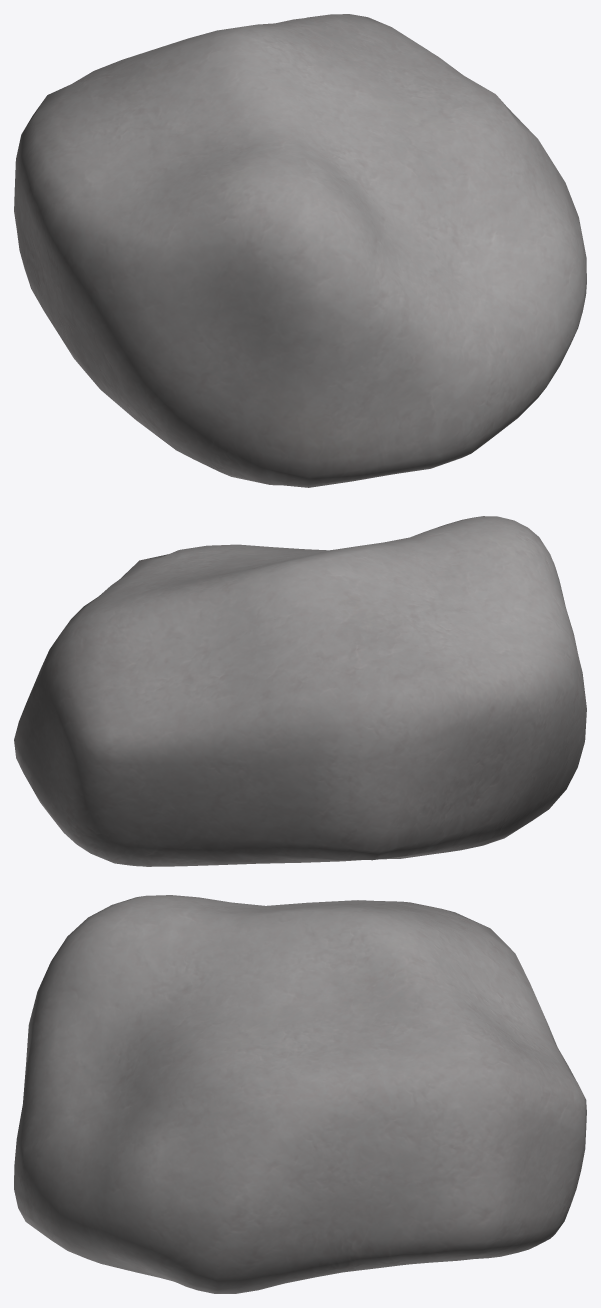
The model's file is rock01_Textured.fbx.
3 views of the same model, one above another, from view 1: azimuth 30°, elevation 25°; view 2: azimuth 150°, elevation 25°; view 3: azimuth 270°, elevation 25° (orthographic). The views are drawn at different scales.
Parts seen in each view (by area): view 1: rock01; view 2: rock01; view 3: rock01.
Boxes of the visible parts, left/top/right/bottom form: rock01: left=14, top=14, right=586, bottom=487; rock01: left=14, top=516, right=586, bottom=866; rock01: left=14, top=895, right=586, bottom=1293.
Bounding box in the file's own units: 57.01 × 37.7 × 61.23.
